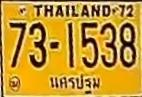1: (67, 22, 73, 66)
3: (99, 22, 116, 67), (28, 22, 45, 67)
5: (80, 22, 98, 67)
7: (9, 22, 26, 66)
8: (119, 22, 135, 67)
NPT: (49, 73, 103, 95)
